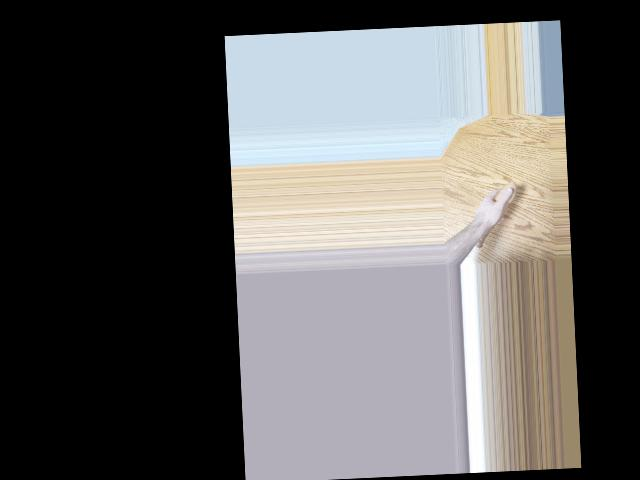sweet_potato: (469, 180, 519, 250)
